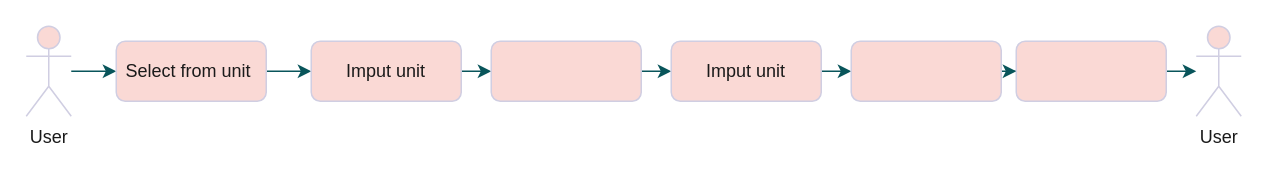
The diagram is 1268 pixels wide and 174 high, and some of its shapes have lost their labels. Here are the shapes that lost their labels. From the top down, the centre of each, then its label:
At point 565,70: "Select to unit".
At point 925,70: "Convert distance".
At point 1090,70: "Output to user".
